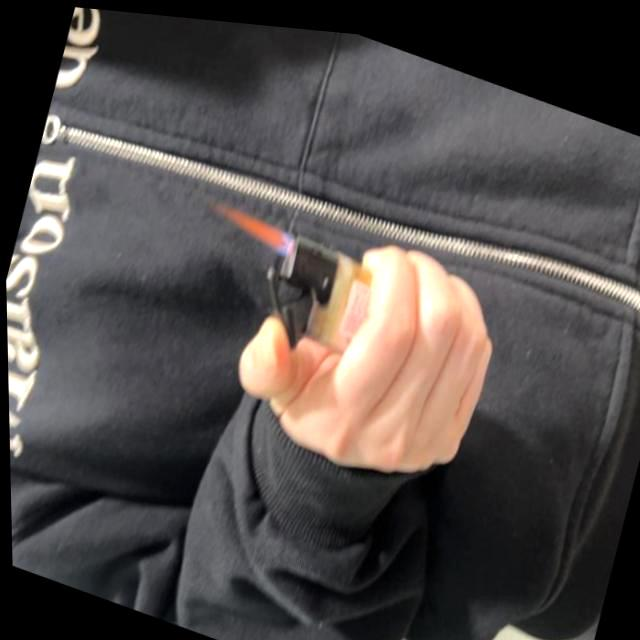fire: (204, 194, 294, 246)
